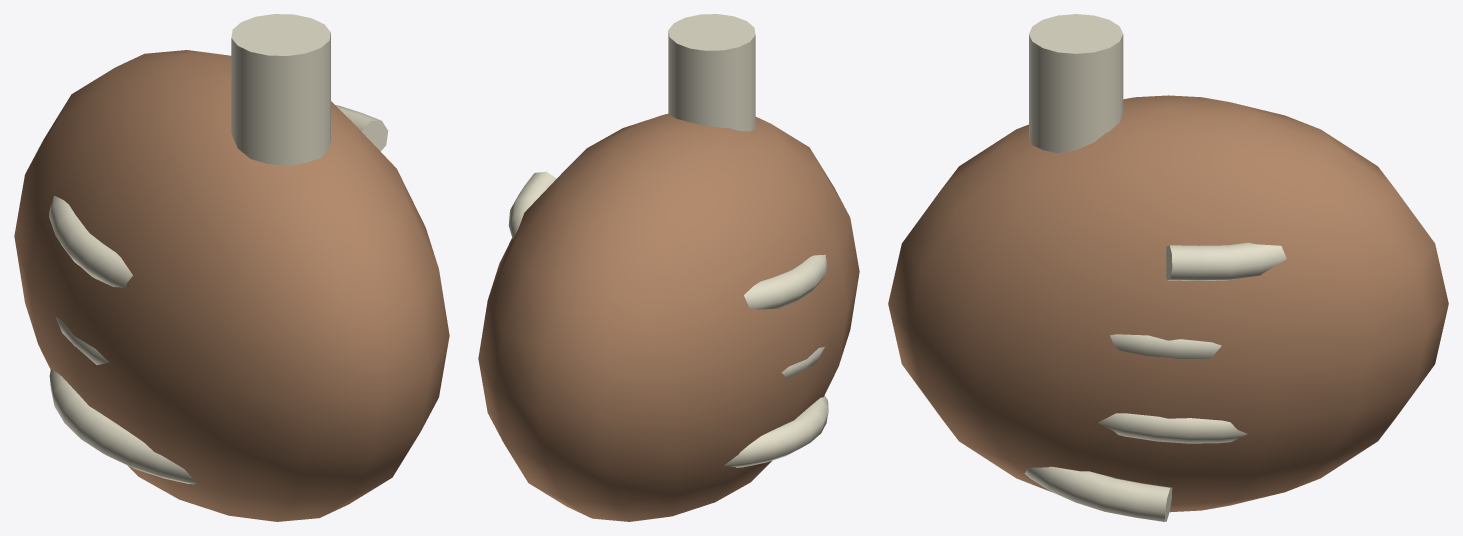
File: survival-food-and-preservation-cured-ham-2262fd73__21749.glb
3 renders of one model, left to right at view 1: azimuth 30°, elevation 25°; view 2: azimuth 150°, elevation 25°; view 3: azimuth 270°, elevation 25°, orthographic. The views are drawn at different scales.
Visible parts, largest first — view 1: cured-ham; view 2: cured-ham; view 3: cured-ham.
Boxes of the visible parts, x1,y1,x2,y2 form: cured-ham: (14,14,449,521); cured-ham: (478,14,859,521); cured-ham: (888,14,1448,521).
Bounding box in the file's own units: 0.168 × 0.25 × 0.273.
